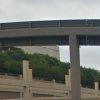Bridge: (5, 14, 99, 57)
